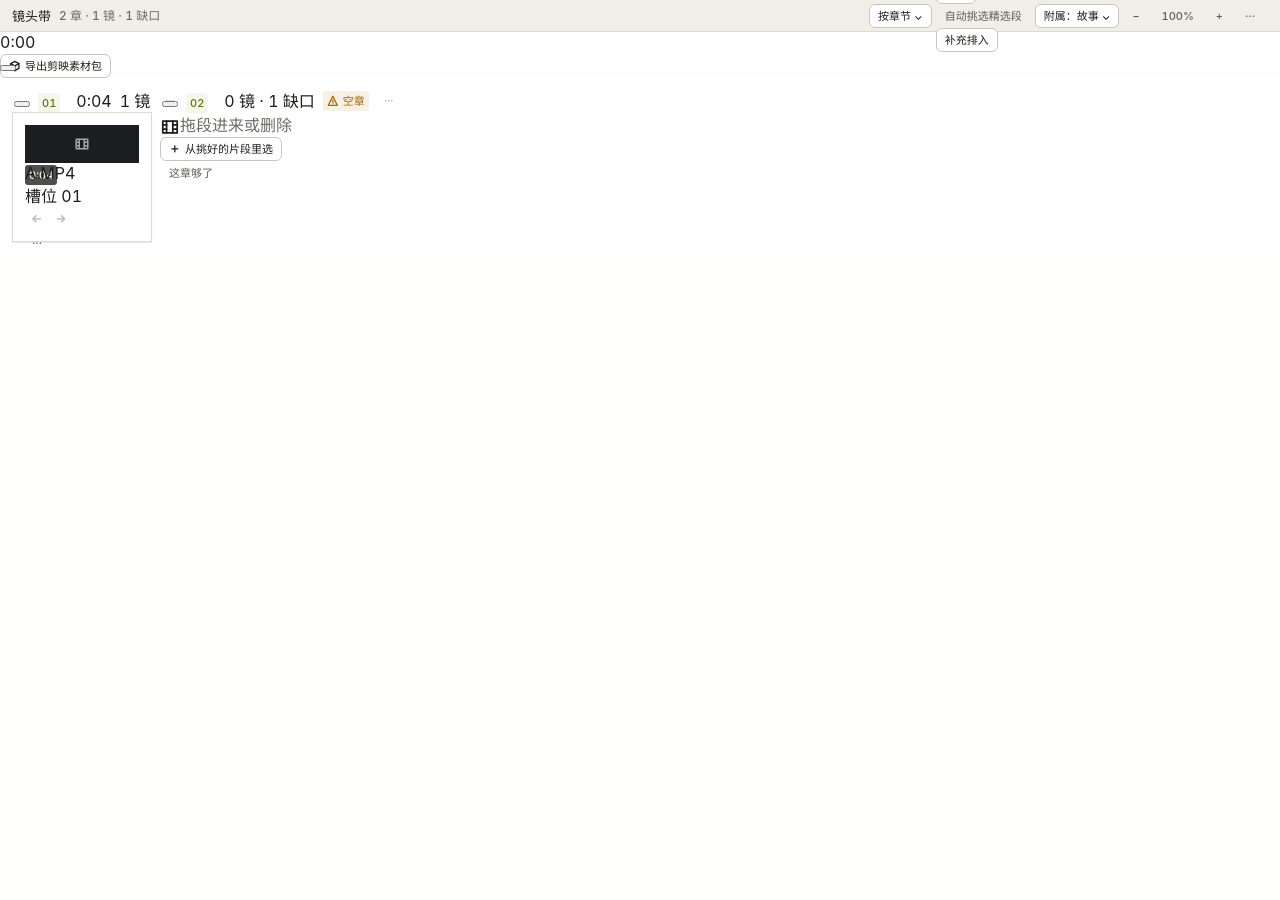
Scenario: U-18:「从挑好的片段里选」(R10 的「从媒体池选择…」)是不靠拖拽的第二条路 › 列表只列收藏 ∪ ≥3 星且不在带上的素材;点一条 → set_story_order 追加到它的章末,提示说出章名
expect the cell named "镜头 1：A.MP4" is shown: met, box left=12, top=112, right=152, bottom=242
Click the button "从挑好的片段里选".
click(221, 149)  # box left=160, top=137, right=282, bottom=161
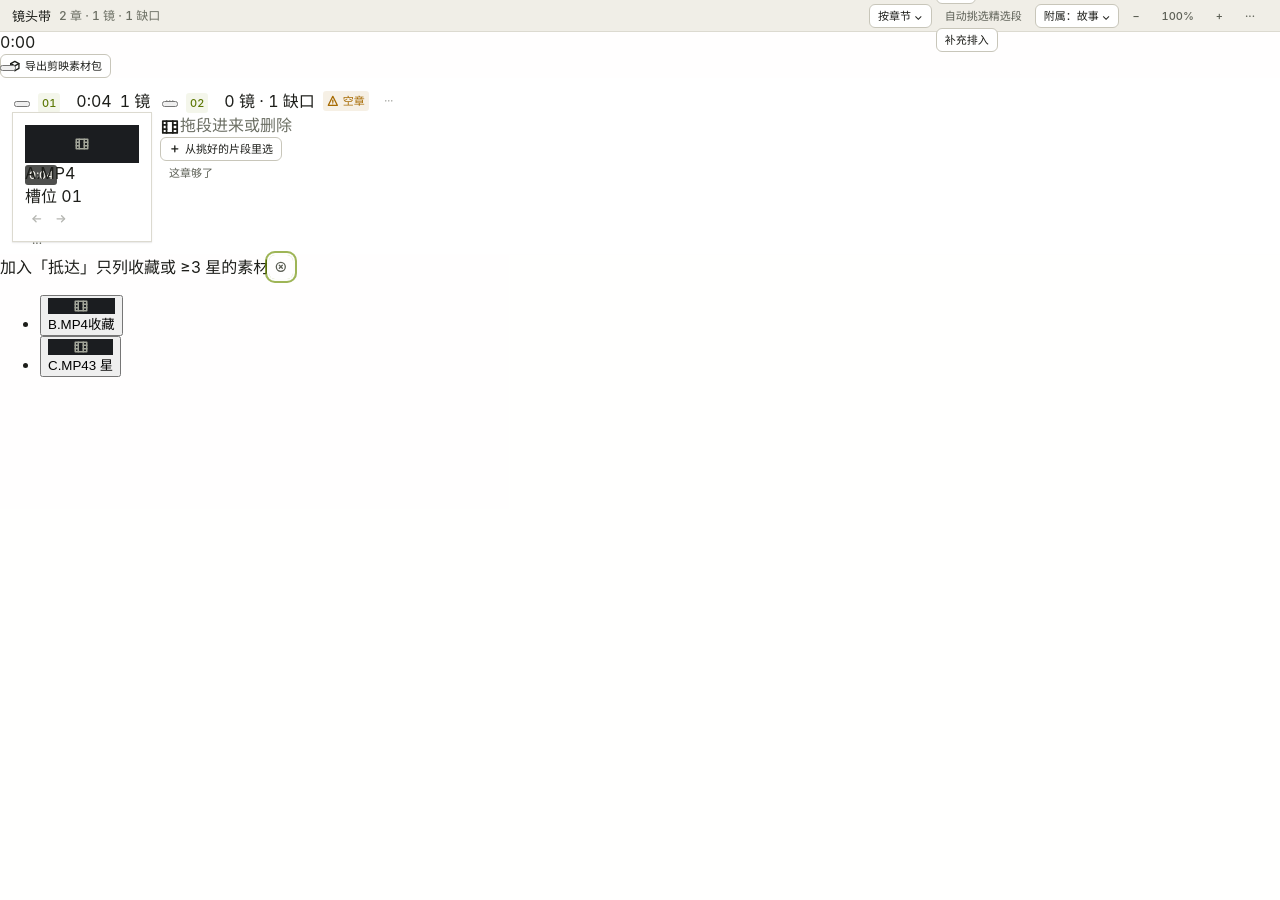
expect the buttons "加入 " read "B.MP4收藏", "C.MP43 星", in this order: met
Click the button with aria-label "加入 B.MP4".
click(81, 316)  # box left=40, top=295, right=123, bottom=336
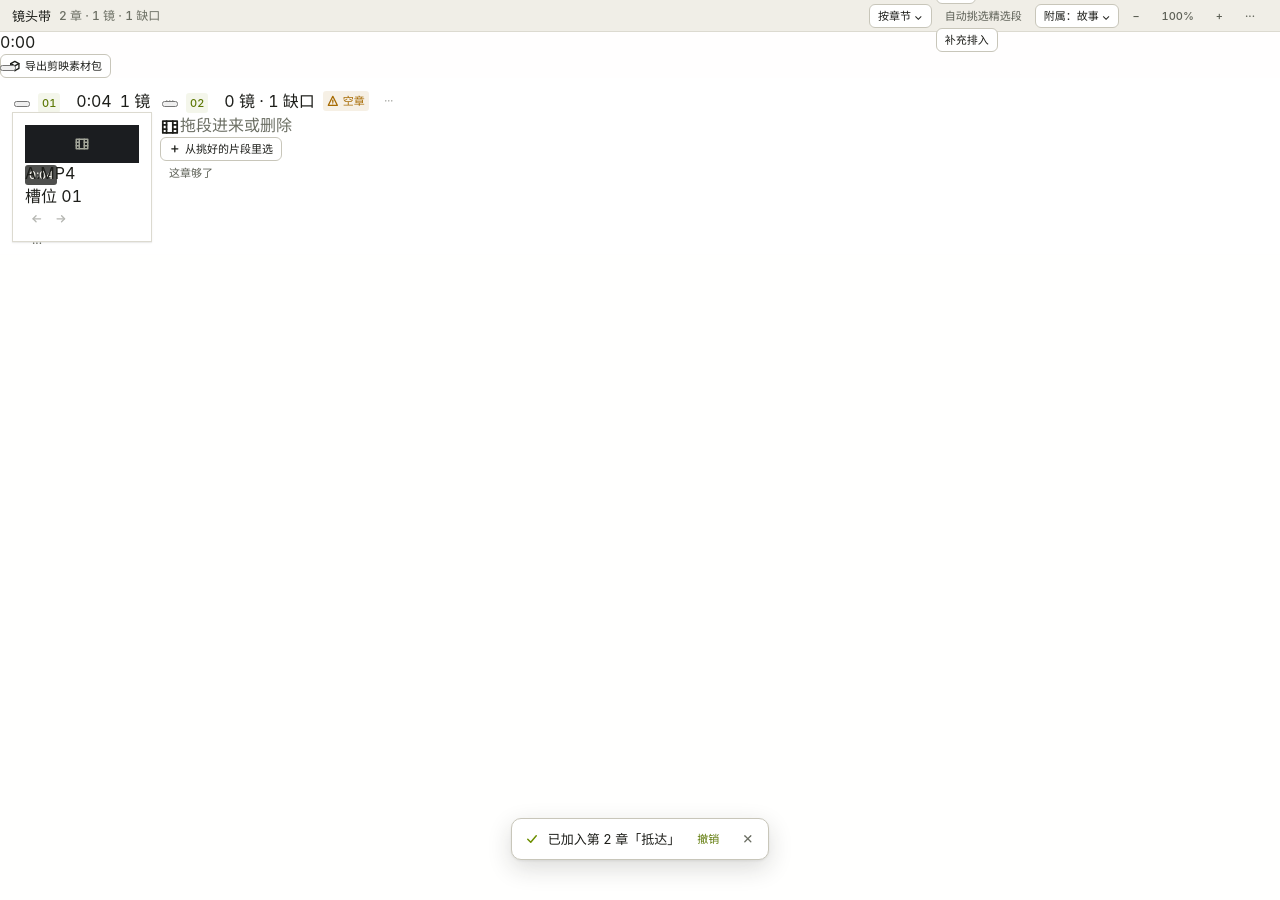
expect the text "已加入第 2 章「抵达」" is shown: met, box left=548, top=830, right=680, bottom=848
expect the dialog "从媒体池选择" is gone: met
